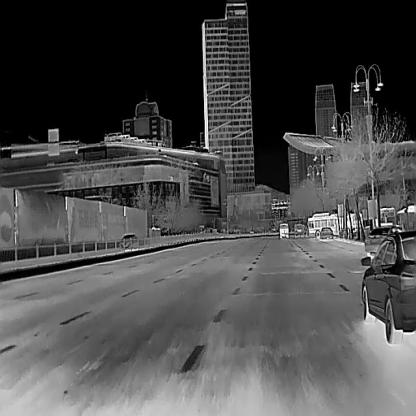bus: (304, 212, 364, 238), (372, 206, 395, 228), (398, 202, 415, 229), (277, 222, 290, 238)
car: (356, 229, 416, 346), (365, 223, 402, 252), (120, 233, 138, 248), (319, 226, 334, 239)
